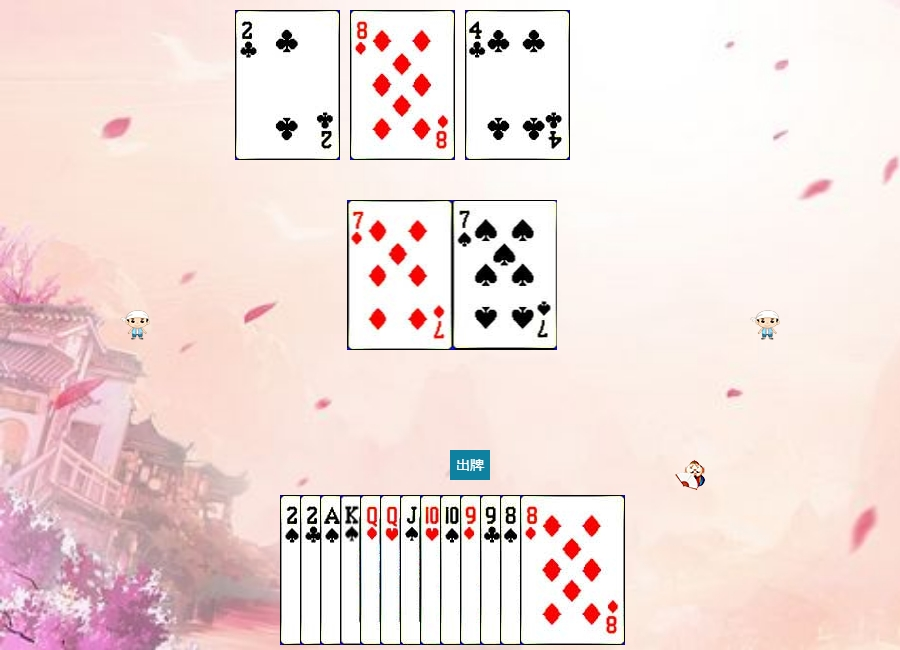10~3: (420, 495, 525, 645)
10~4: (440, 495, 545, 645)
11~4: (400, 495, 505, 645)
12~1: (360, 495, 465, 645)
12~3: (380, 495, 485, 645)
13~4: (340, 495, 445, 645)
14~4: (320, 495, 425, 645)
15~2: (235, 10, 340, 160), (300, 495, 405, 645)
15~4: (280, 495, 385, 645)
4~2: (465, 10, 570, 160)
7~1: (348, 200, 453, 350)
7~4: (453, 200, 558, 350)
8~1: (350, 10, 455, 160), (520, 495, 625, 645)
8~4: (500, 495, 605, 645)
9~1: (460, 495, 565, 645)
9~2: (480, 495, 585, 645)
